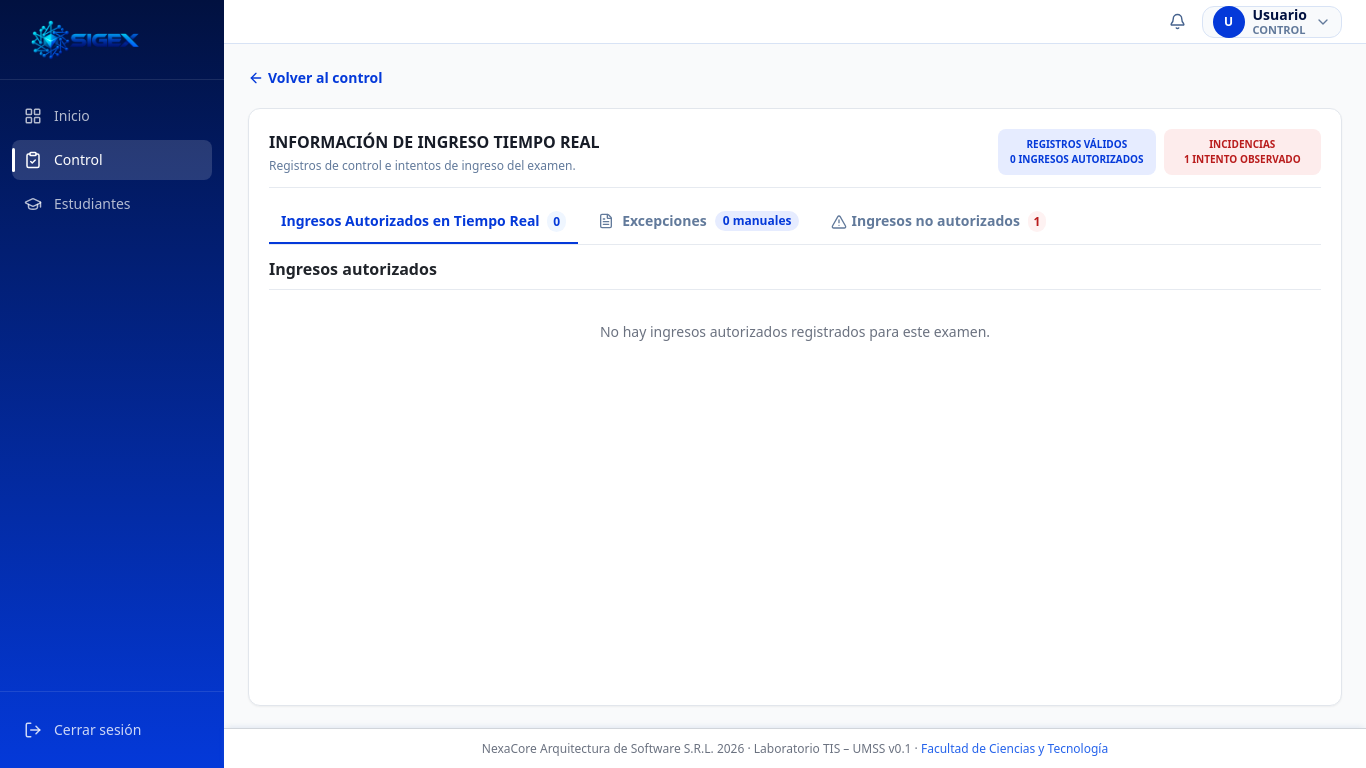
it: el detalle presenta el número de CI o su ausencia: true / 74839201
Expected: the text "1 intento observado" is shown, [1184,152,1301,166]
What coordinates should you click on to do the following:
click the tab "Ingresos no autorizados 1"
I would click on:
 (939, 222)
Its box is [820,200,1058,244].
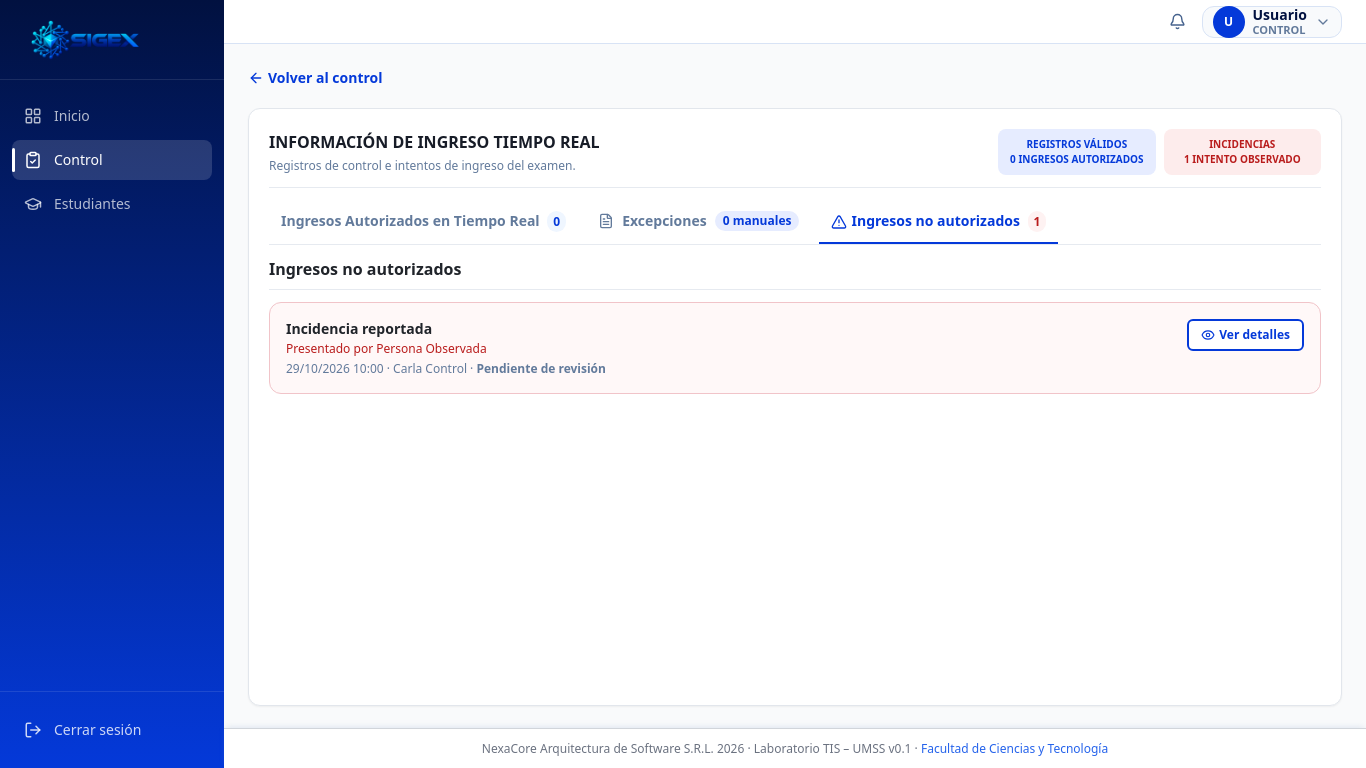
What coordinates should you click on to do the following:
click the button "Ver detalles"
I would click on:
 (1246, 335)
Its box is [1187,319,1304,351].
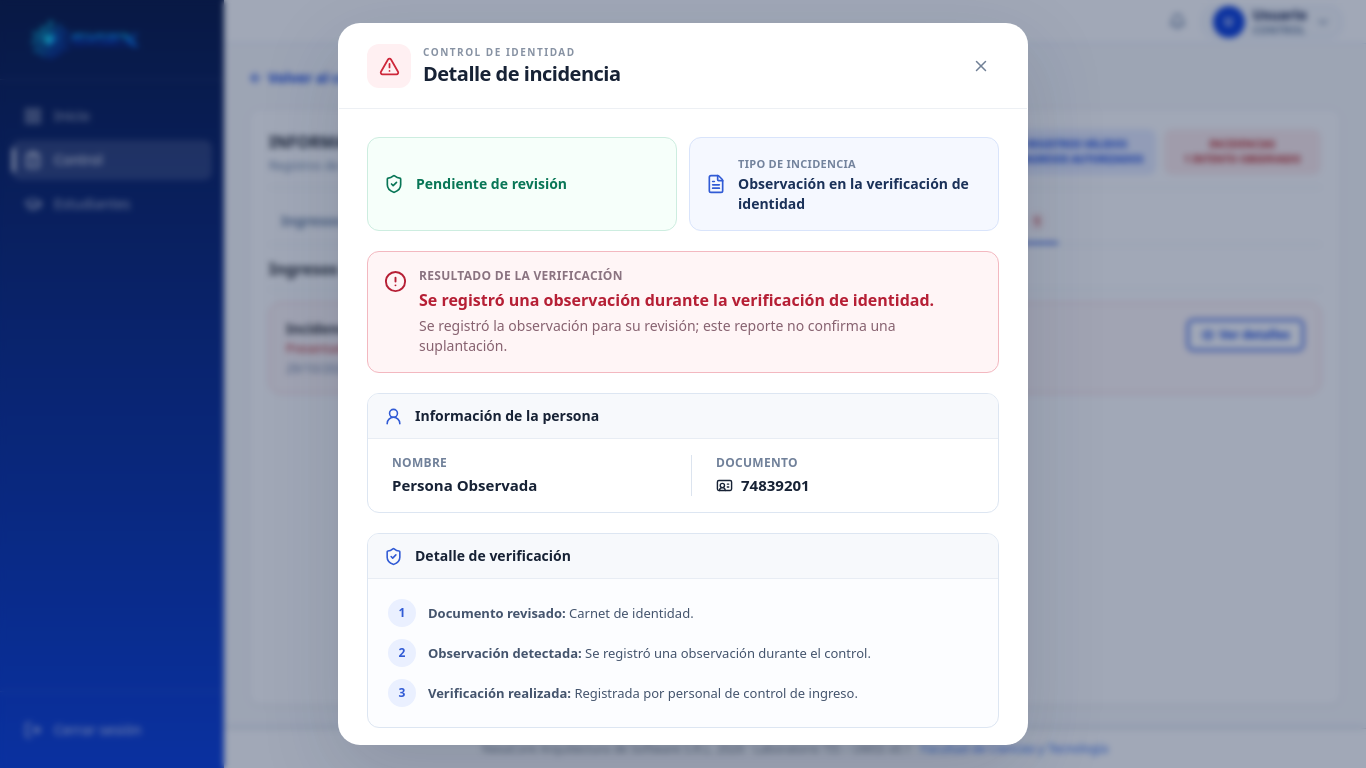
Now the text "74839201" is shown, box [716,475,810,495]
